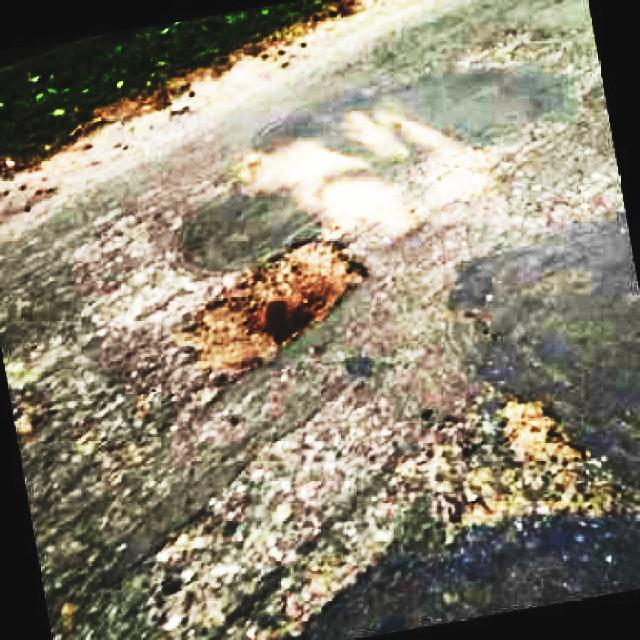pothole: (178, 232, 372, 385), (426, 403, 629, 540)
